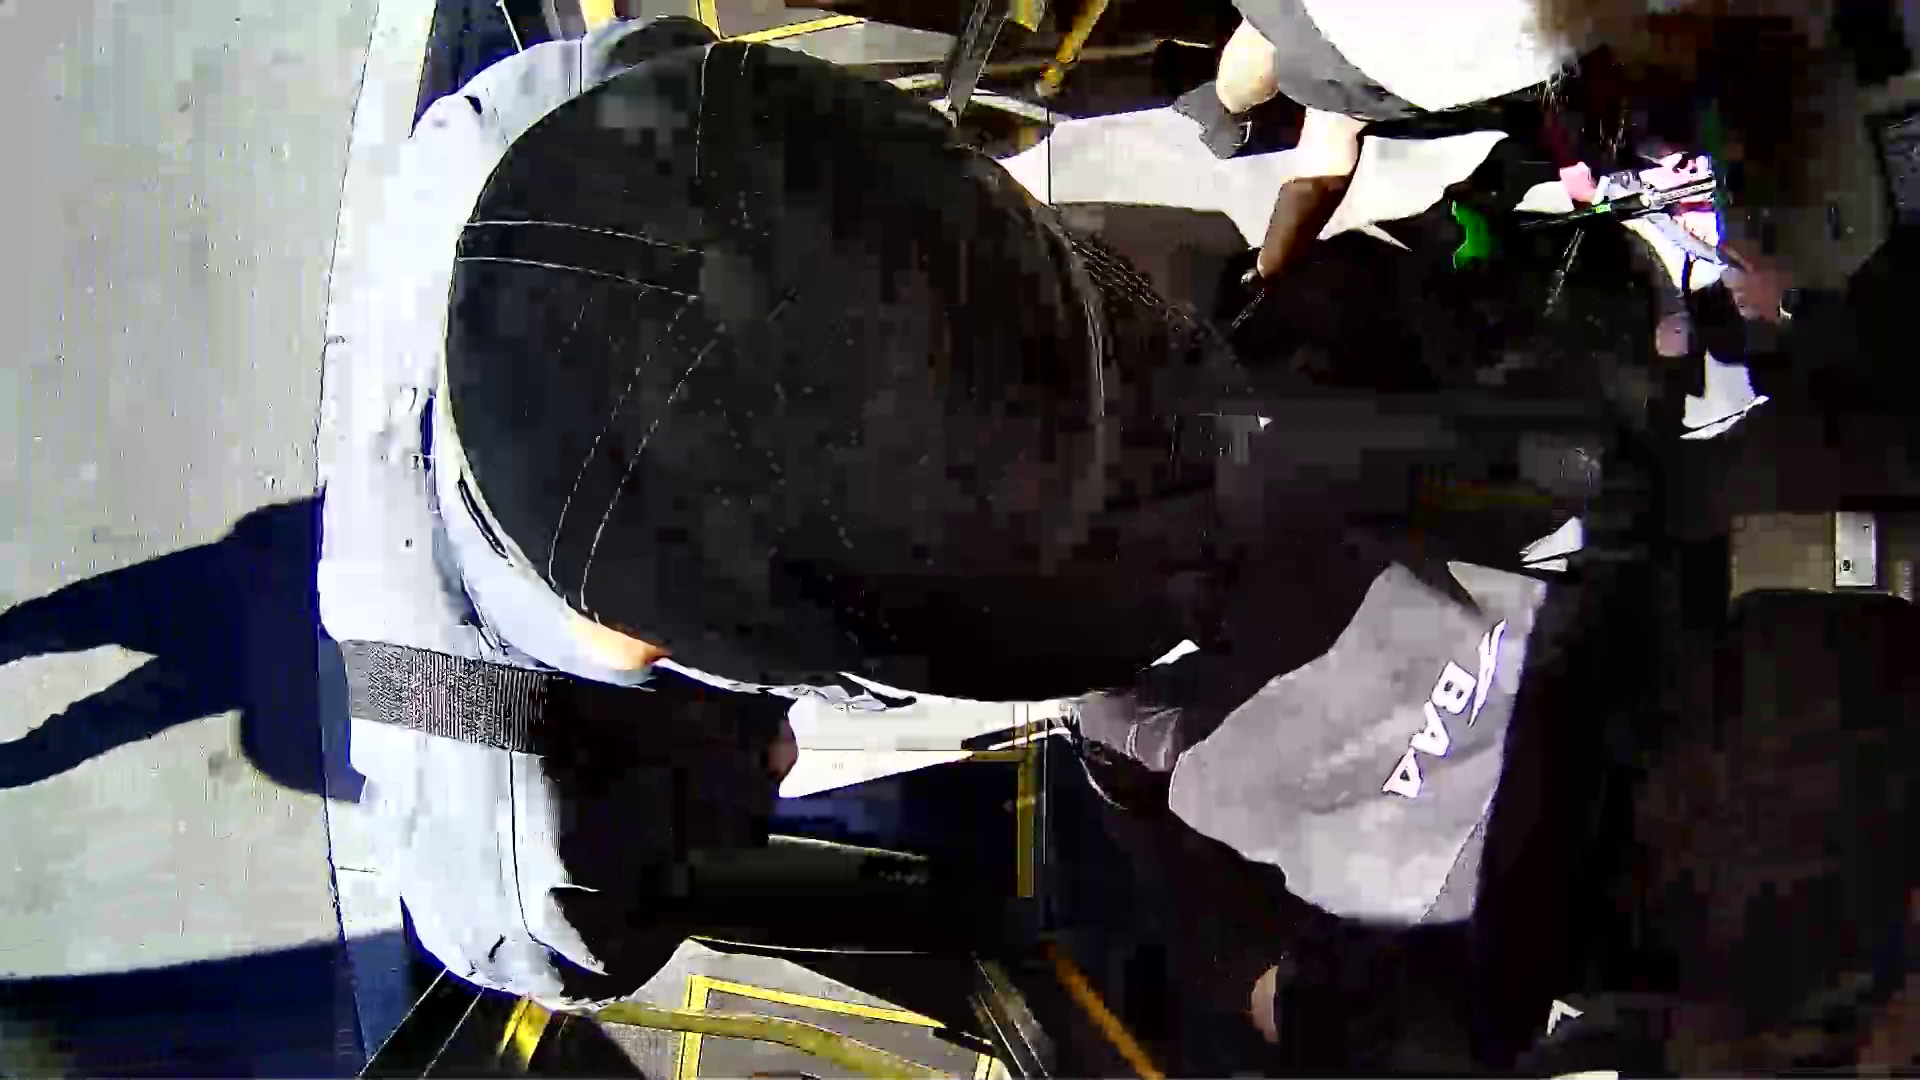person: (328, 32, 1256, 1001)
